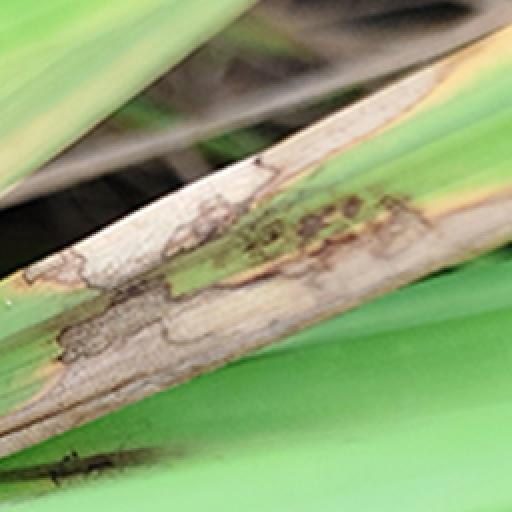Leaf Blast Disease: (0, 34, 512, 456), (0, 436, 176, 498)
